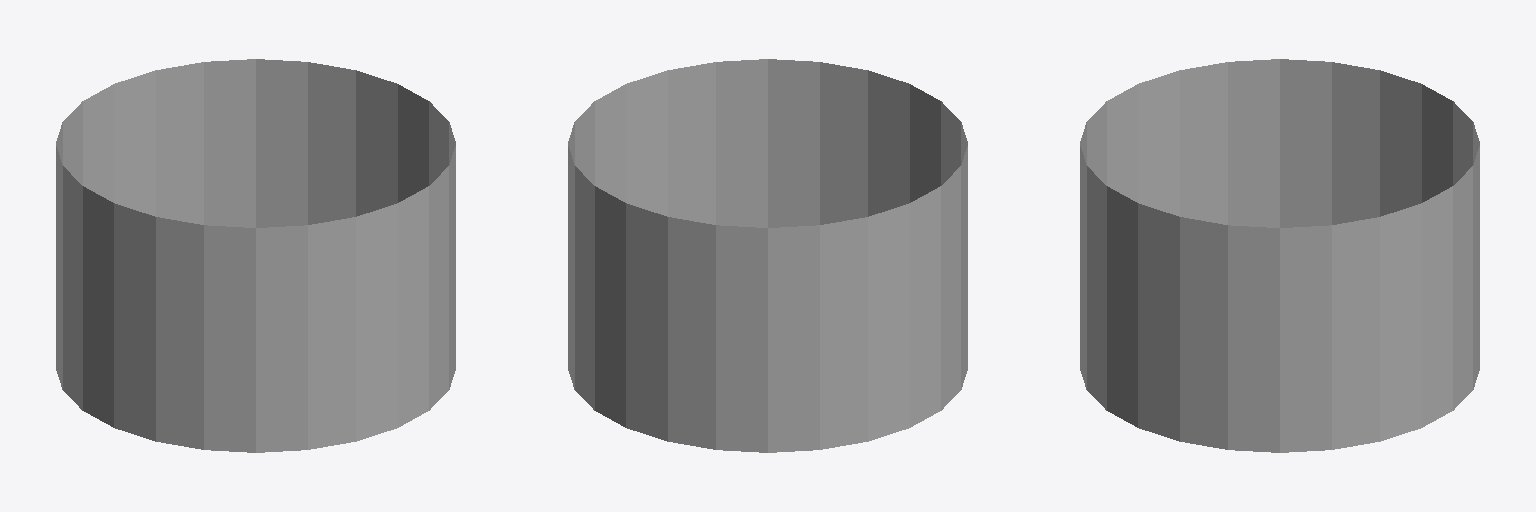
Rendered from original-24.obj.
The picture shows the model from 3 angles: view 1: azimuth 30°, elevation 25°; view 2: azimuth 150°, elevation 25°; view 3: azimuth 270°, elevation 25°; orthographic projection.
Parts seen in each view (by area): view 1: #ID157; view 2: #ID157; view 3: #ID157.
Part boxes in pixels (bbox=[...]): #ID157: bbox=[56, 59, 455, 452]; #ID157: bbox=[568, 59, 967, 452]; #ID157: bbox=[1080, 59, 1479, 452].
Bounding box in the file's own units: 0.006 × 0.0037 × 0.006.